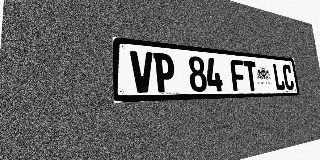4: (205, 57, 223, 92)
8: (188, 56, 207, 92)
C: (282, 64, 295, 90)
F: (230, 59, 246, 91)
L: (272, 63, 285, 90)
P: (153, 52, 176, 92)
T: (243, 61, 259, 91)
V: (130, 50, 154, 93)
